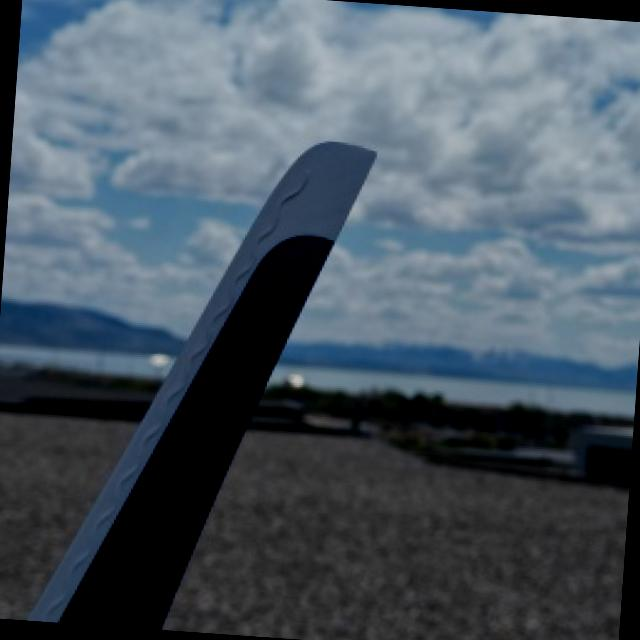healthy: (30, 140, 377, 623)
